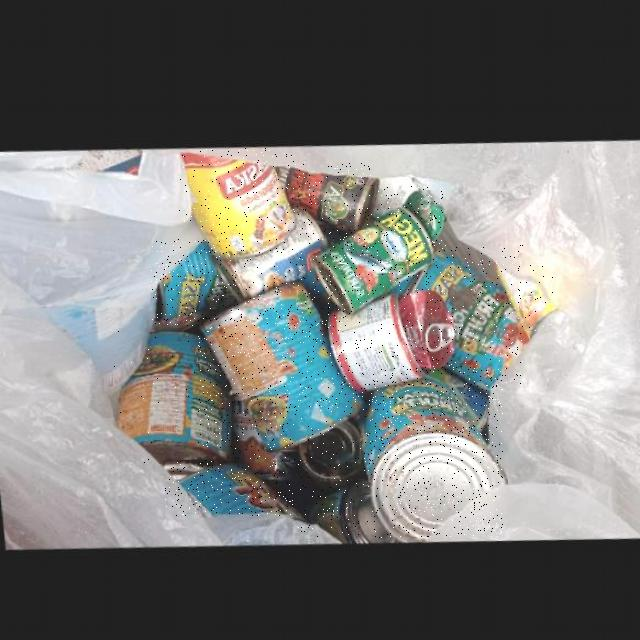metal: (198, 277, 362, 447), (361, 370, 503, 537), (310, 185, 443, 309), (412, 245, 524, 388), (114, 328, 229, 464), (323, 283, 454, 388), (179, 148, 294, 256), (210, 200, 325, 298), (152, 238, 236, 327), (165, 460, 296, 516), (277, 162, 377, 230), (295, 475, 389, 538), (228, 397, 299, 473), (294, 409, 364, 480), (418, 360, 487, 425), (496, 260, 553, 331)
